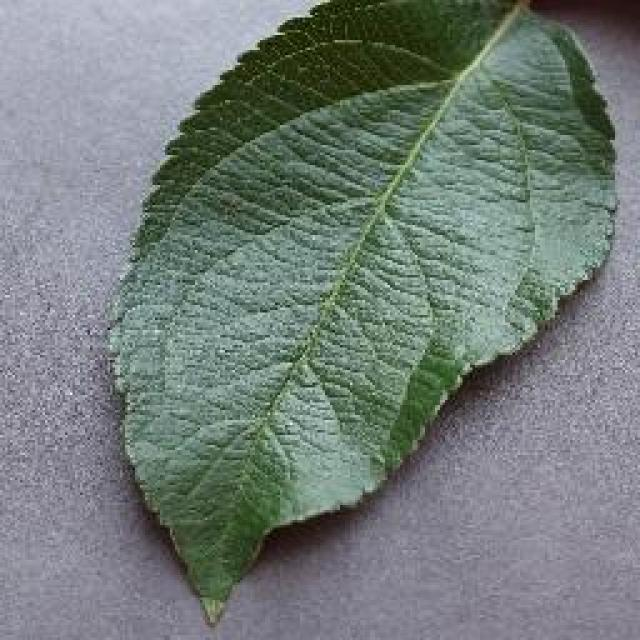apple healthy: (102, 0, 620, 625)
